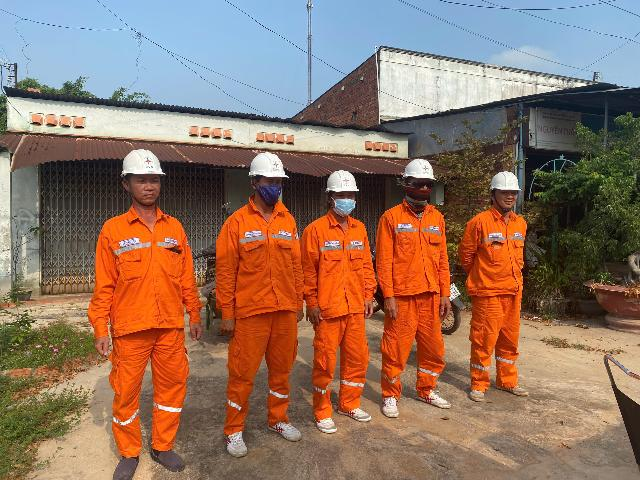helmet: (116, 143, 166, 182), (244, 147, 288, 184), (321, 166, 358, 197), (402, 156, 437, 186), (482, 169, 523, 194)
shoes: (148, 442, 190, 476), (268, 414, 302, 447), (333, 398, 371, 427), (409, 389, 452, 411), (114, 447, 141, 480), (224, 429, 250, 463), (495, 377, 533, 399), (310, 410, 338, 436), (379, 392, 400, 424), (465, 383, 485, 405)
